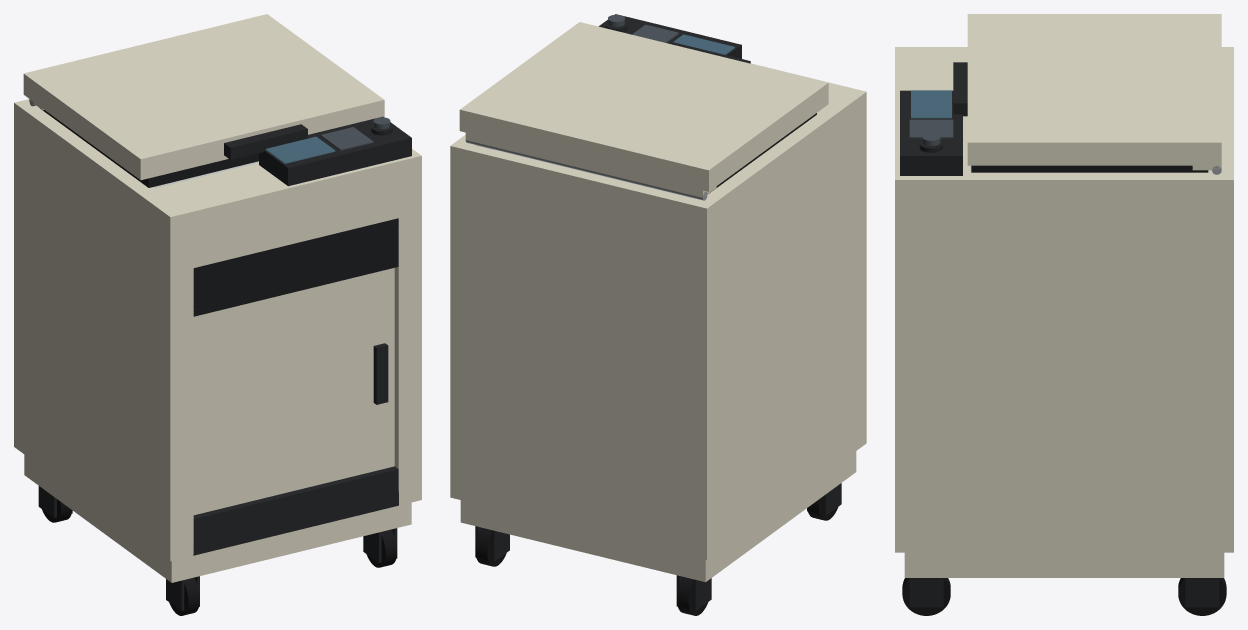
Rendered from copier.glb.
3 renders of one model, left to right at view 1: azimuth 30°, elevation 25°; view 2: azimuth 150°, elevation 25°; view 3: azimuth 270°, elevation 25°, orthographic. The views are drawn at different scales.
Parts seen in each view (by area): view 1: cabinet, front_door, platen_cover, wheel_fr, wheel_fl; view 2: cabinet, platen_cover, wheel_rr, wheel_rl; view 3: cabinet, platen_cover, wheel_fr, wheel_rr.
Part boxes in pixels (left/top/right/bottom): cabinet: left=14, top=99, right=421, bottom=611; front_door: left=193, top=268, right=394, bottom=515; platen_cover: left=23, top=14, right=384, bottom=187; wheel_fr: left=366, top=529, right=397, bottom=567; wheel_fl: left=169, top=577, right=199, bottom=615; cabinet: left=450, top=14, right=866, bottom=610; platen_cover: left=459, top=22, right=828, bottom=200; wheel_rr: left=475, top=527, right=506, bottom=566; wheel_rl: left=677, top=577, right=708, bottom=615; cabinet: left=895, top=47, right=1233, bottom=607; platen_cover: left=953, top=14, right=1221, bottom=174; wheel_fr: left=902, top=578, right=950, bottom=615; wheel_rr: left=1178, top=578, right=1226, bottom=615.
Bounding box in the file's own units: 0.65 × 1.1 × 0.7.
